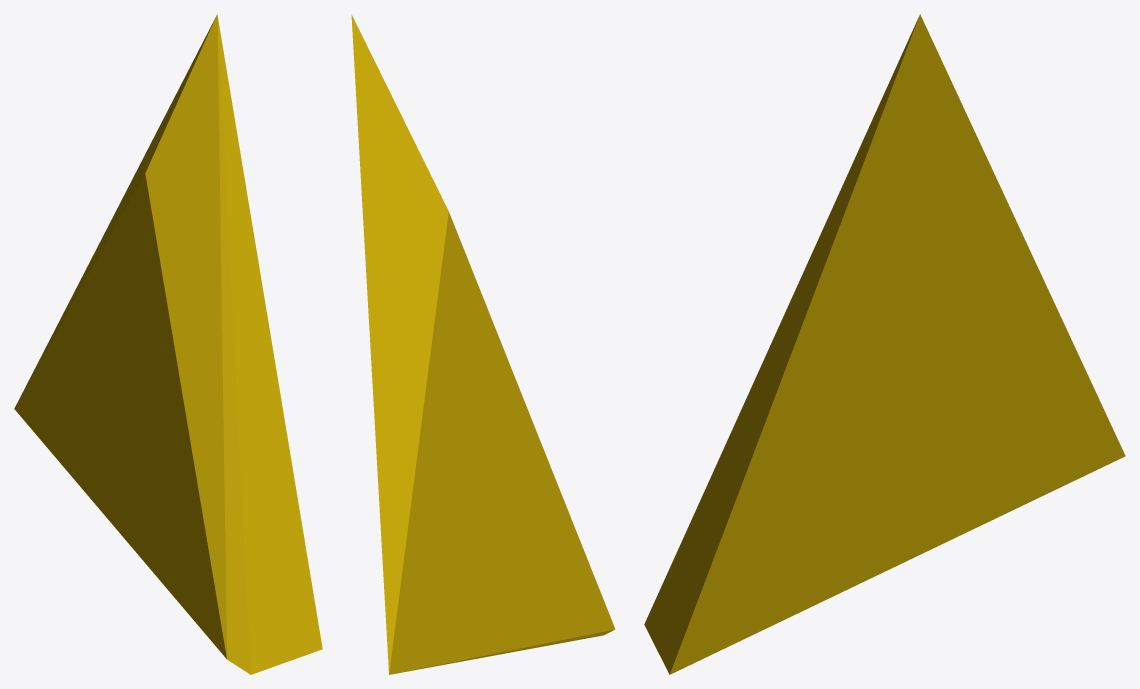
Rendered from arm-L1_convex_piece_013.obj.
The picture shows the model from 3 angles, left to right: view 1: azimuth 30°, elevation 25°; view 2: azimuth 150°, elevation 25°; view 3: azimuth 270°, elevation 25°; orthographic projection. The views are drawn at different scales.
Size of the model in its own units: 0.00426 by 0.0195 by 0.0129.
